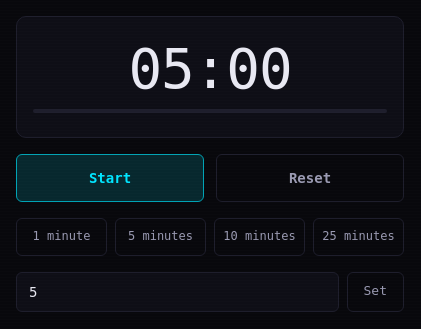
Scenario: Timer › sets the duration from a preset
Step 1. Click the button "10 minutes" → (260, 237), box x1=214 y1=218 x2=305 y2=256
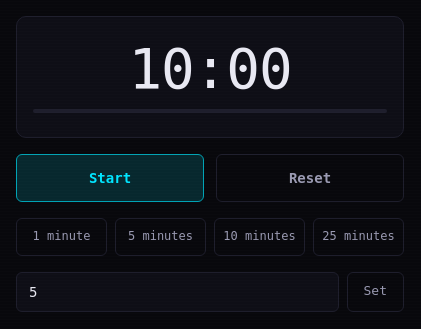
Expected: the text named "time remaining" reads "10:00", x1=128 y1=36 x2=292 y2=101
